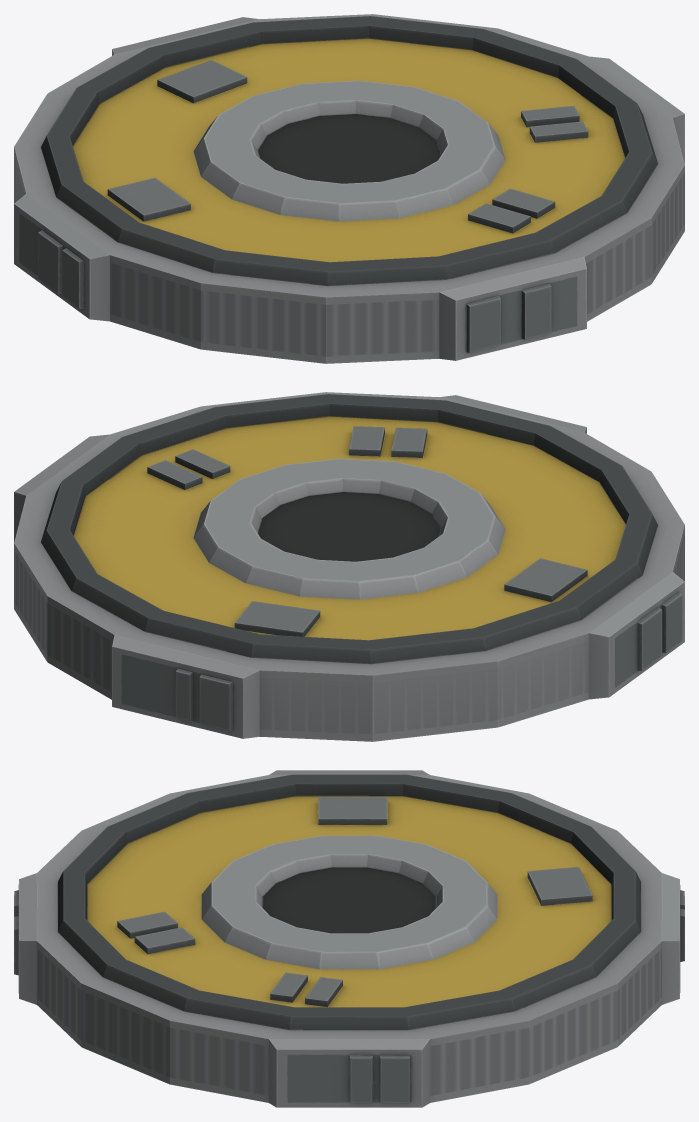
File: fa9d9fc5-d02c-4ceb-ae01-65e202084704.glb
3 views of the same model, one above another, from view 1: azimuth 30°, elevation 25°; view 2: azimuth 150°, elevation 25°; view 3: azimuth 270°, elevation 25° (orthographic). The views are drawn at different scales.
Parts seen in each view (by area): view 1: RCL01RemoteGuidanceUnit_mesh; view 2: RCL01RemoteGuidanceUnit_mesh; view 3: RCL01RemoteGuidanceUnit_mesh.
Boxes of the visible parts, x1,y1,x2,y2 form: RCL01RemoteGuidanceUnit_mesh: [14, 14, 684, 363]; RCL01RemoteGuidanceUnit_mesh: [14, 392, 684, 741]; RCL01RemoteGuidanceUnit_mesh: [14, 770, 684, 1107].
Size of the model in its own units: 5.37 by 0.7964 by 5.37.
1 material, 1 textured.
